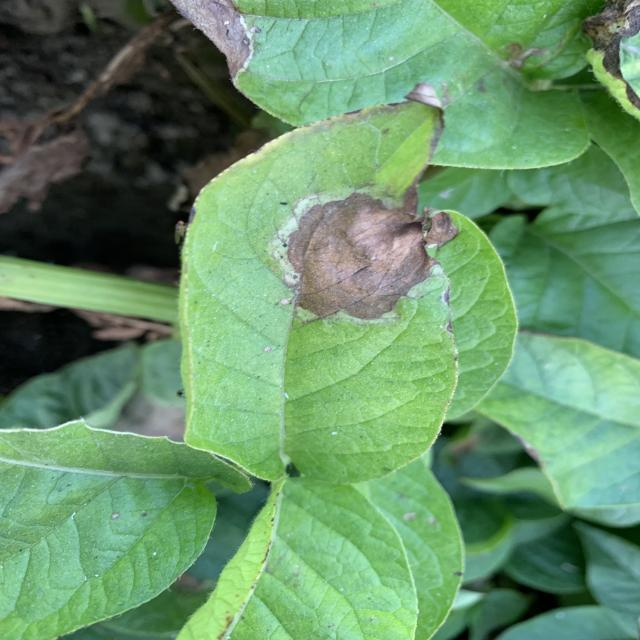lateblight: (287, 194, 455, 320), (170, 0, 250, 78)
